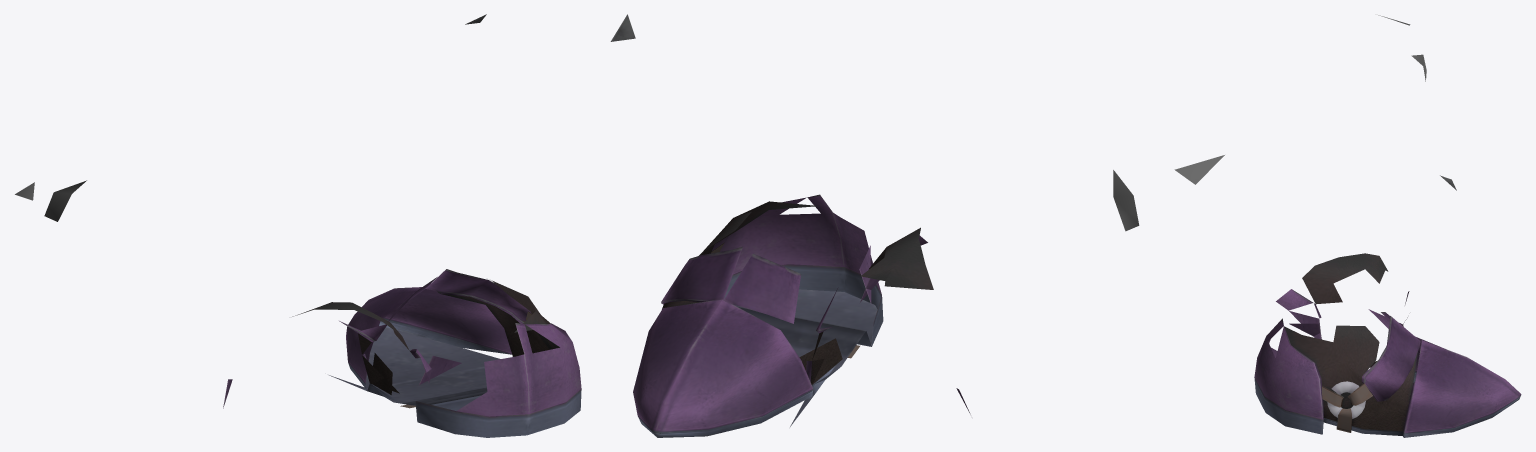
File: Metapiederecho.fbx
The picture shows the model from 3 angles, left to right: view 1: azimuth 30°, elevation 25°; view 2: azimuth 150°, elevation 25°; view 3: azimuth 270°, elevation 25°; orthographic projection. The views are drawn at different scales.
Parts seen in each view (by area): view 1: body_VIS_O_OBJShape.008, body_VIS_O_OBJShape.009; view 2: body_VIS_O_OBJShape.008, body_VIS_O_OBJShape.009; view 3: body_VIS_O_OBJShape.008, body_VIS_O_OBJShape.009.
Boxes of the visible parts, left/top/right/bottom form: body_VIS_O_OBJShape.008: left=223, top=14, right=581, bottom=437; body_VIS_O_OBJShape.009: left=15, top=180, right=559, bottom=408; body_VIS_O_OBJShape.008: left=610, top=14, right=970, bottom=437; body_VIS_O_OBJShape.009: left=662, top=155, right=1224, bottom=384; body_VIS_O_OBJShape.008: left=1254, top=175, right=1521, bottom=437; body_VIS_O_OBJShape.009: left=1284, top=15, right=1426, bottom=432.
Size of the model in its own units: 349 by 219 by 202.
